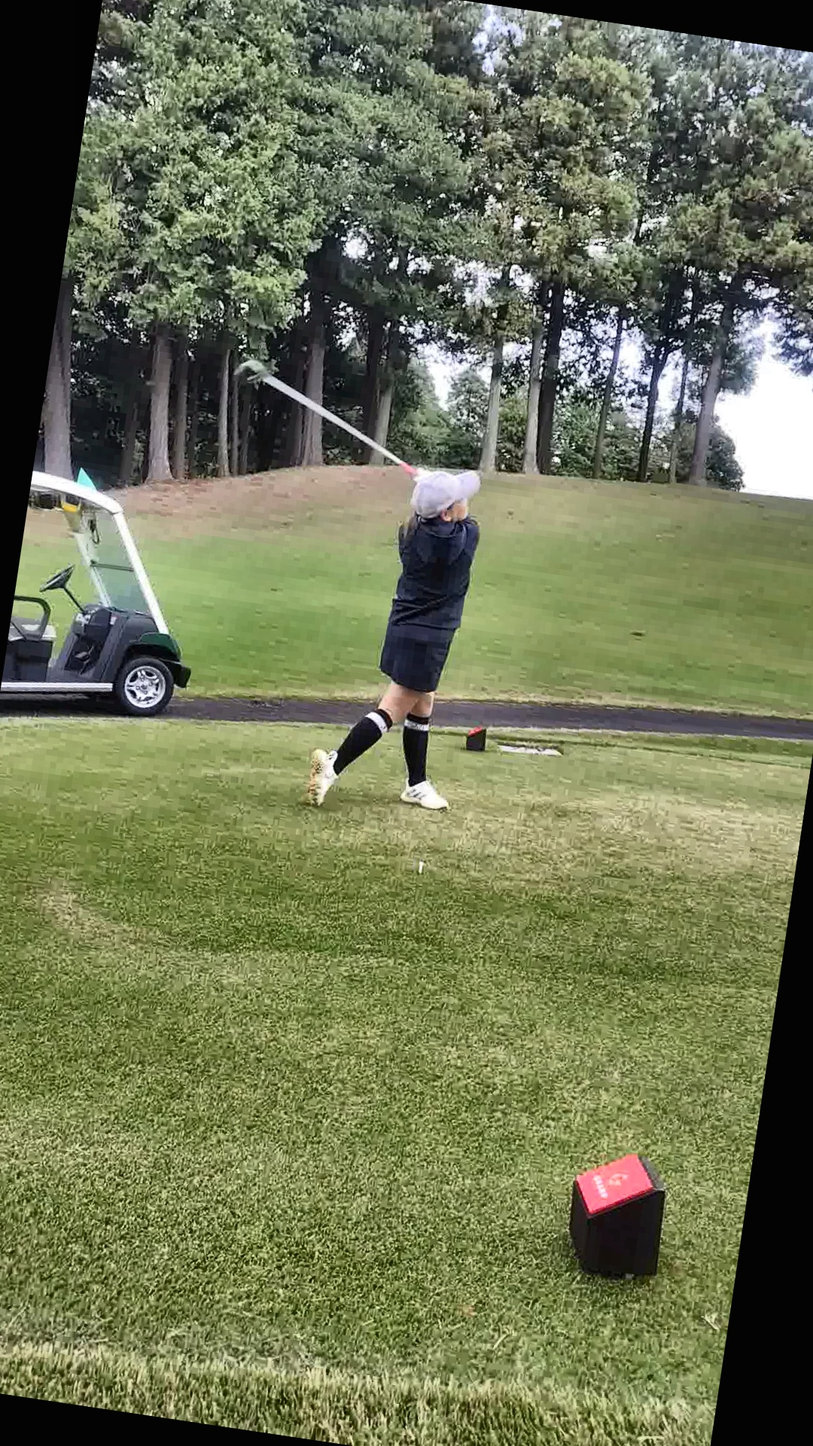clubhead: (147, 300, 382, 515)
